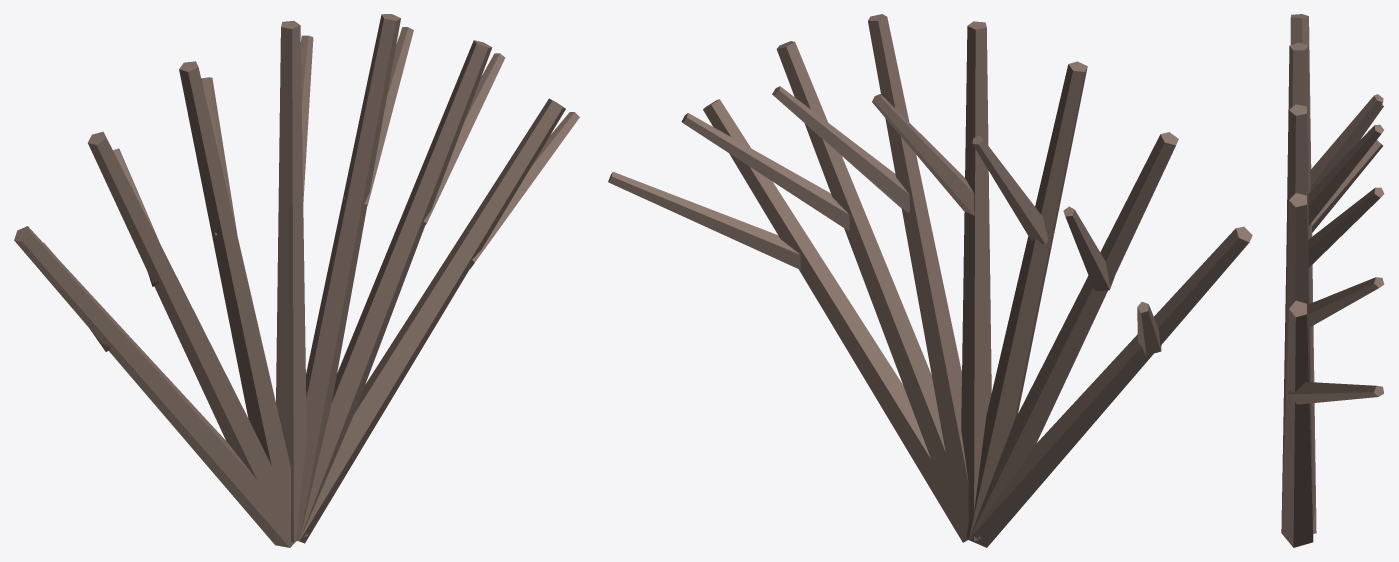
File: coral-branch.glb
3 renders of one model, left to right at view 1: azimuth 30°, elevation 25°; view 2: azimuth 150°, elevation 25°; view 3: azimuth 270°, elevation 25°, orthographic. The views are drawn at different scales.
Visible parts, largest first — view 1: coral-branch__body; view 2: coral-branch__body; view 3: coral-branch__body.
Boxes of the visible parts, x1,y1,x2,y2 form: coral-branch__body: [14, 14, 579, 547]; coral-branch__body: [608, 14, 1252, 547]; coral-branch__body: [1281, 14, 1384, 547].
Bounding box in the file's own units: 1.33 × 1.09 × 0.2057.
